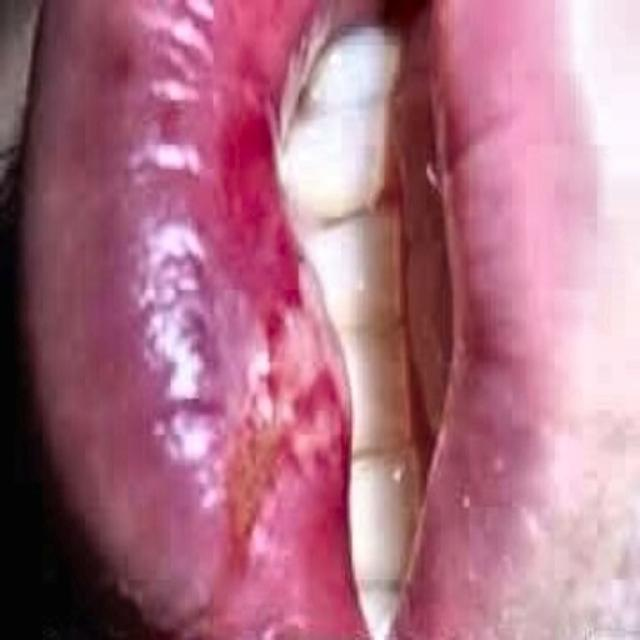cancer-detection: (139, 0, 372, 639)
processing_area: (27, 0, 364, 639)
